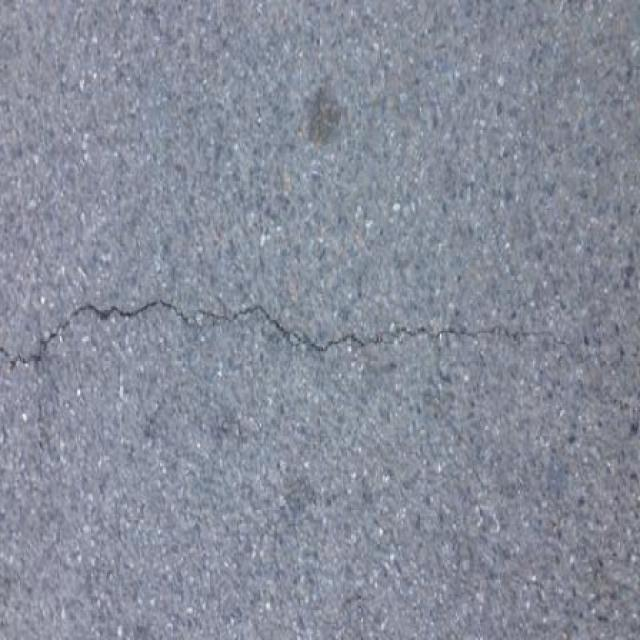Horizontal Crack: (0, 291, 575, 401)
